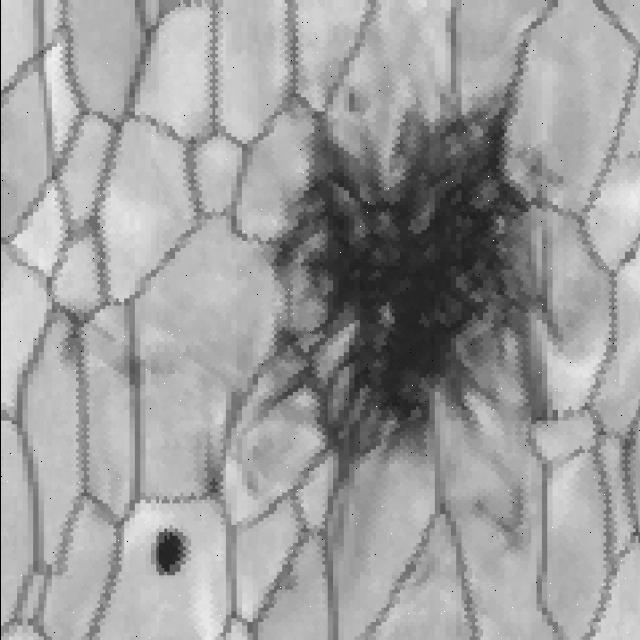good_void: (248, 97, 576, 516), (454, 472, 537, 579), (187, 437, 242, 529), (50, 294, 110, 371), (148, 519, 196, 589), (111, 337, 160, 401), (340, 86, 365, 123)
